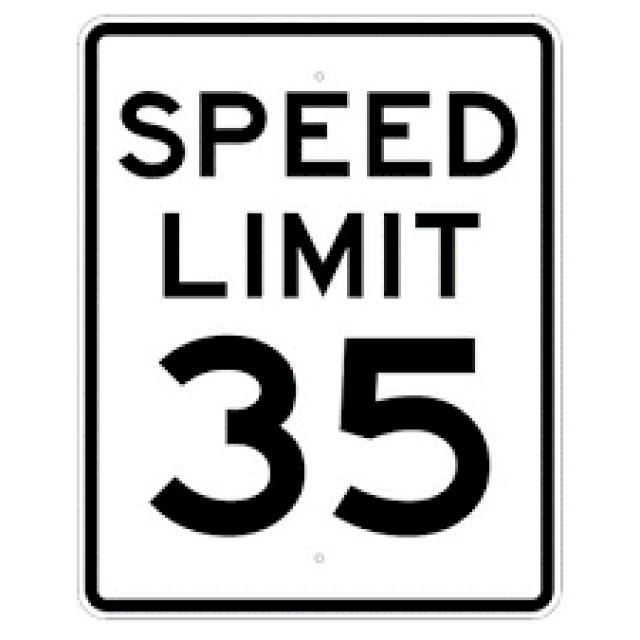speedLimit35: (81, 17, 565, 620)
